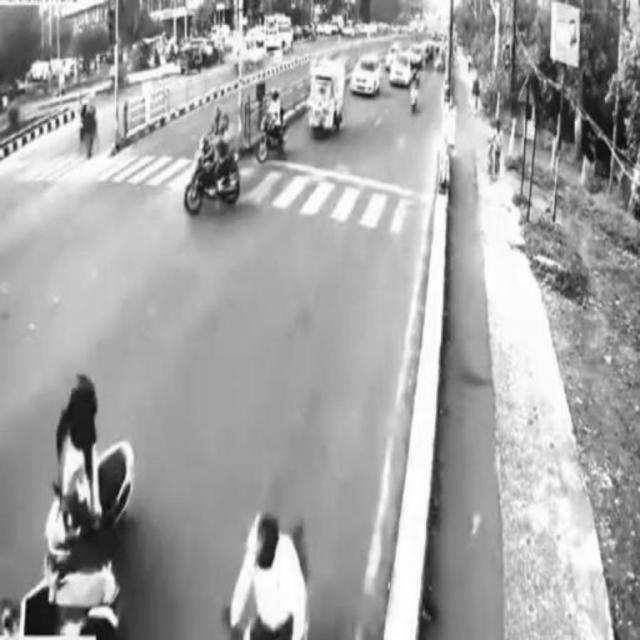accident: (6, 374, 134, 638)
vehicle: (181, 135, 241, 211), (309, 64, 345, 134), (255, 90, 289, 163), (352, 54, 380, 94)
